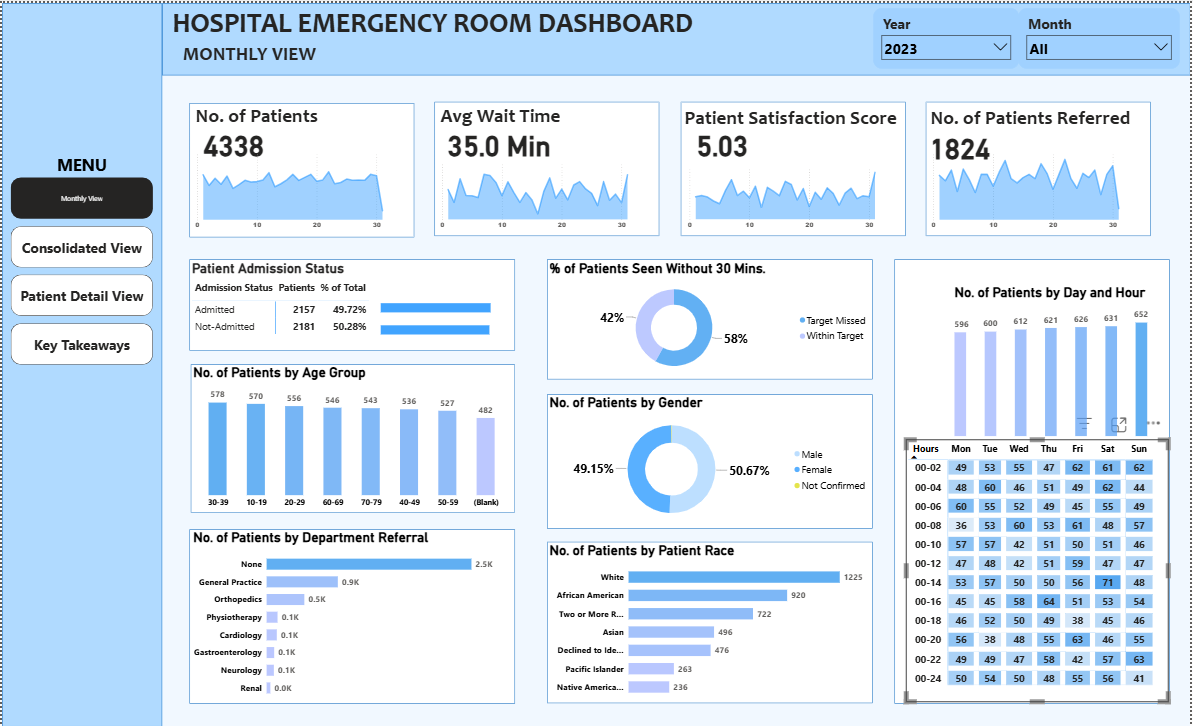

Layout of this report page (visuals, bound fields, positions):
{"tool":"powerbi","page":{"name":"Monthly View","canvas":[2300,1400],"ordinal":0},"visuals":[{"type":"shape","box":[0,0,310,1400],"z":0},{"type":"shape","box":[310,0,1990,140],"z":1000},{"type":"textbox","box":[310,0,1046.7,93.3],"z":2000},{"type":"textbox","box":[333.3,70,290,66.7],"z":3000},{"type":"shape","box":[362.5,192.5,435,260],"z":4000},{"type":"card","fields":{"Values":["Hospital ER_Data.No. of Patients"]},"box":[382.5,230,132.5,82.5],"z":5000},{"type":"shape","box":[1312.5,190,435,260],"z":6000},{"type":"shape","box":[837.5,190,435,260],"z":7000},{"type":"shape","box":[1787.5,190,435,260],"z":8000},{"type":"textbox","box":[832.5,190,265,67.5],"z":9000},{"type":"textbox","box":[362.5,190,260,67.5],"z":10000},{"type":"textbox","box":[1315,192.5,432.5,65],"z":11000},{"type":"textbox","box":[1787.5,192.5,405,67.5],"z":12000},{"type":"areaChart","fields":{"Category":["Date Table.Date.Variation.Date Hierarchy.Day"],"Y":["Hospital ER_Data.No. of Patients"]},"box":[362.5,280,435,170],"z":13000},{"type":"slicer","fields":{"Values":["Date Table.Month"]},"box":[1967.5,10,312.5,117.5],"z":14000},{"type":"card","fields":{"Values":["Hospital ER_Data.Avg. Wait Time"]},"box":[832.5,217.5,260,105],"z":15000},{"type":"areaChart","fields":{"Y":["Avg(Hospital ER_Data.Patient Waittime)"],"Category":["Date Table.Date.Variation.Date Hierarchy.Day"]},"box":[837.5,300,435,150],"z":16000},{"type":"card","fields":{"Values":["Avg(Hospital ER_Data.Patient Satisfaction Score)"]},"box":[1315,217.5,155,105],"z":17000},{"type":"areaChart","fields":{"Category":["Date Table.Date.Variation.Date Hierarchy.Day"],"Y":["Avg(Hospital ER_Data.Patient Satisfaction Score)"]},"box":[1315,310,435,140],"z":18000},{"type":"areaChart","fields":{"Category":["Date Table.Date.Variation.Date Hierarchy.Day"],"Y":["Hospital ER_Data.No of patient referred"]},"box":[1787.5,280,435,170],"z":19000},{"type":"card","fields":{"Values":["Hospital ER_Data.No of patient referred"]},"box":[1787.5,235,132.5,82.5],"z":20000},{"type":"shape","box":[362.5,495,630,177],"z":21000},{"type":"pivotTable","title":"Patient Admission Status","fields":{"Rows":["Hospital ER_Data.Admission Status"],"Values":["Hospital ER_Data.No. of Patients1","Hospital ER_Data.No. of Patients"]},"box":[362.5,497.5,630,170],"z":22000},{"type":"barChart","fields":{"Category":["Hospital ER_Data.Admission Status"],"Y":["Hospital ER_Data.No. of Patients"]},"box":[727.5,547.5,302.5,125],"z":23000},{"type":"shape","box":[365,700,627.5,287.5],"z":24000},{"type":"shape","box":[362.5,1017.5,630,337.5],"z":25000},{"type":"shape","box":[1055,495,630,232.5],"z":26000},{"type":"shape","box":[1055,757.5,630,260],"z":27000},{"type":"shape","box":[1055,1042.5,630,312.5],"z":28000},{"type":"shape","box":[1727.5,495,532.5,860],"z":29000},{"type":"clusteredColumnChart","fields":{"Category":["Hospital ER_Data.Age Group"],"Y":["Hospital ER_Data.No. of Patients"]},"box":[365,700,625,287.5],"z":30000},{"type":"clusteredBarChart","fields":{"Category":["Hospital ER_Data.Department Referral"],"Y":["Hospital ER_Data.No. of Patients"]},"box":[365,1017.5,625,337.5],"z":31000},{"type":"donutChart","title":"% of Patients Seen Without 30 Mins.","fields":{"Category":["Hospital ER_Data.Waittime Status"],"Y":["Hospital ER_Data.No. of Patients"]},"box":[1055,497.5,630,230],"z":32000},{"type":"donutChart","title":"No. of Patients by Gender","fields":{"Y":["Hospital ER_Data.No. of Patients"],"Category":["Hospital ER_Data.Patient Gender"]},"box":[1055,757.5,630,260],"z":33000},{"type":"clusteredBarChart","fields":{"Y":["Hospital ER_Data.No. of Patients"],"Category":["Hospital ER_Data.Patient Race"]},"box":[1055,1042.5,630,312.5],"z":34000},{"type":"pivotTable","fields":{"Rows":["Hospital ER_Data.Admissin Interval"],"Columns":["Date Table.Day Name"],"Values":["Hospital ER_Data.No. of Patients"]},"box":[1750,845,510,510],"z":35000},{"type":"columnChart","title":"No. of Patients by Day  and Hour","fields":{"Category":["Date Table.Day Name"],"Y":["Hospital ER_Data.No. of Patients"]},"box":[1837.5,545,385,300],"z":36000},{"type":"pageNavigator","title":"MENU","box":[17.5,290,275,410],"z":37000},{"type":"slicer","fields":{"Values":["Date Table.Year"]},"box":[1685,10,282.5,117.5],"z":38000}]}

Visuals, with their boxes in screenshot pixels (x1, y1, x2, y2), scaled from the page's 2300x1400 canvas onto the 1193x726 screenshot:
shape: 0/0/161/725
shape: 161/0/1192/73
textbox: 161/0/704/48
textbox: 173/36/323/71
shape: 188/100/414/235
card - Hospital ER_Data.No. of Patients: 198/119/267/162
shape: 681/99/906/233
shape: 434/99/660/233
shape: 927/99/1153/233
textbox: 432/99/569/134
textbox: 188/99/323/134
textbox: 682/100/906/134
textbox: 927/100/1137/135
areaChart - Date Table.Date.Variation.Date Hierarchy.Day x Hospital ER_Data.No. of Patients: 188/145/414/233
slicer - Date Table.Month: 1021/5/1183/66
card - Hospital ER_Data.Avg. Wait Time: 432/113/567/167
areaChart - Avg(Hospital ER_Data.Patient Waittime) x Date Table.Date.Variation.Date Hierarchy.Day: 434/156/660/233
card - Avg(Hospital ER_Data.Patient Satisfaction Score): 682/113/762/167
areaChart - Date Table.Date.Variation.Date Hierarchy.Day x Avg(Hospital ER_Data.Patient Satisfaction Score): 682/161/908/233
areaChart - Date Table.Date.Variation.Date Hierarchy.Day x Hospital ER_Data.No of patient referred: 927/145/1153/233
card - Hospital ER_Data.No of patient referred: 927/122/996/165
shape: 188/257/515/348
"Patient Admission Status" pivotTable: 188/258/515/346
barChart - Hospital ER_Data.Admission Status x Hospital ER_Data.No. of Patients: 377/284/534/349
shape: 189/363/515/512
shape: 188/528/515/703
shape: 547/257/874/377
shape: 547/393/874/528
shape: 547/541/874/703
shape: 896/257/1172/703
clusteredColumnChart - Hospital ER_Data.Age Group x Hospital ER_Data.No. of Patients: 189/363/514/512
clusteredBarChart - Hospital ER_Data.Department Referral x Hospital ER_Data.No. of Patients: 189/528/514/703
"% of Patients Seen Without 30 Mins." donutChart: 547/258/874/377
"No. of Patients by Gender" donutChart: 547/393/874/528
clusteredBarChart - Hospital ER_Data.No. of Patients x Hospital ER_Data.Patient Race: 547/541/874/703
pivotTable - Hospital ER_Data.Admissin Interval x Date Table.Day Name: 908/438/1172/703
"No. of Patients by Day  and Hour" columnChart: 953/283/1153/438
"MENU" pageNavigator: 9/150/152/363
slicer - Date Table.Year: 874/5/1021/66
